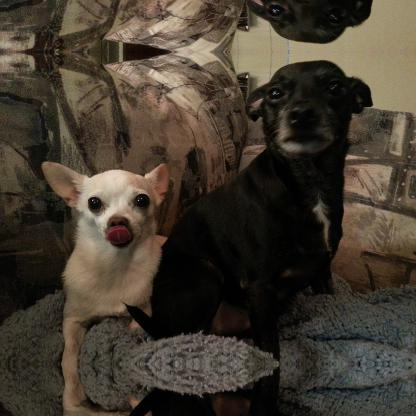Dog: (121, 60, 374, 364), (41, 160, 249, 364), (41, 364, 250, 415)
